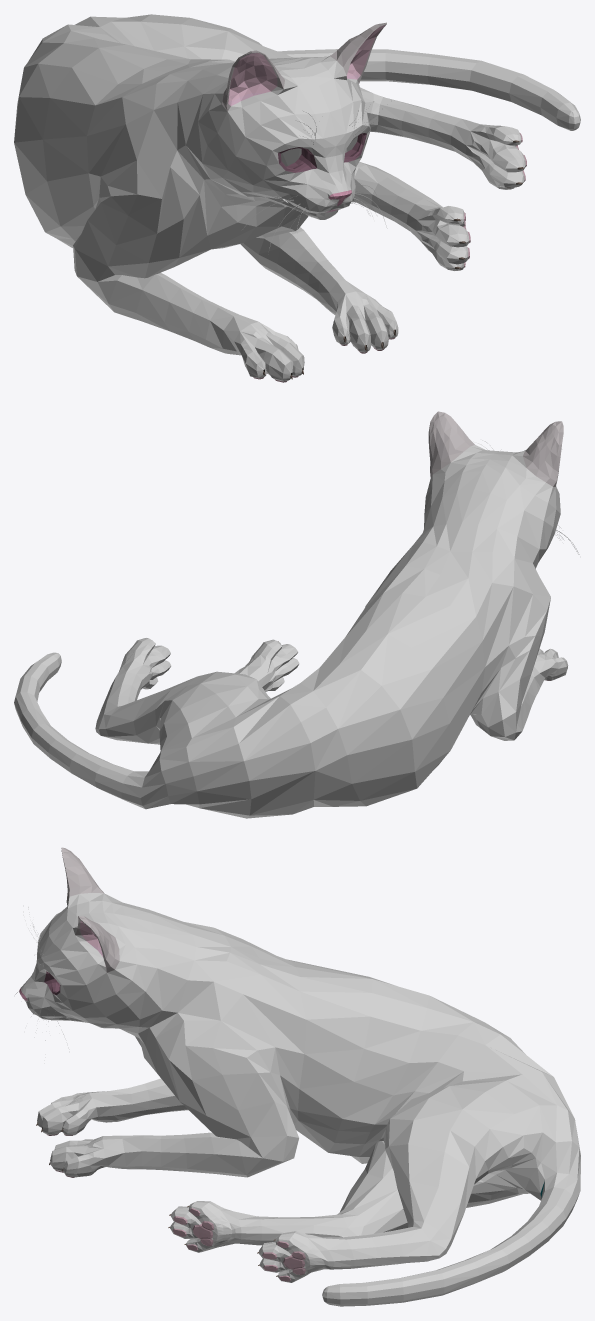
The model's file is Lie_idle_00.glb.
3 views of the same model, one above another, from view 1: azimuth 30°, elevation 25°; view 2: azimuth 150°, elevation 25°; view 3: azimuth 270°, elevation 25° (orthographic). The views are drawn at different scales.
Visible parts, largest first — view 1: Lie_idle_00; view 2: Lie_idle_00; view 3: Lie_idle_00.
Part boxes in pixels (x1,y1,x2,y2): Lie_idle_00: [14, 14, 580, 382]; Lie_idle_00: [14, 411, 579, 818]; Lie_idle_00: [15, 847, 580, 1306].
Size of the model in its own units: 0.4072 by 0.2501 by 0.4361.
1 material, 1 textured.
